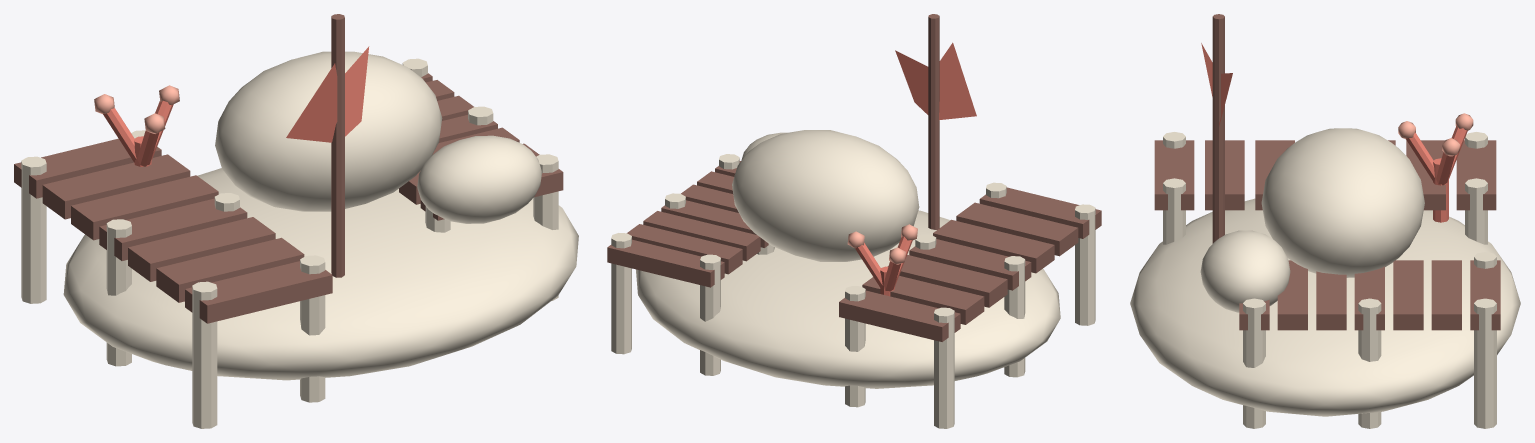
File: port.glb
3 views of the same model, side by side, from view 1: azimuth 30°, elevation 25°; view 2: azimuth 150°, elevation 25°; view 3: azimuth 270°, elevation 25° (orthographic). The views are drawn at different scales.
Parts seen in each view (by area): view 1: Port reef, Nacre shell, Nacre shell.001, Quay plank, Quay plank.002, Quay plank.001, Quay plank.004, Quay plank.005, Harbor banner, Stilt, Stilt.002, Quay plank.003 (+9 smaller); view 2: Port reef, Nacre shell, Quay plank.006, Harbor banner, Quay plank.013, Quay plank.001, Quay plank.002, Harbor banner mast, Quay plank.004, Quay plank.005, Quay plank, Quay plank.003 (+12 smaller); view 3: Port reef, Nacre shell, Nacre shell.001, Stilt.011, Harbor banner mast, Quay plank, Quay plank.012, Quay plank.011, Quay plank.006, Quay plank.001, Stilt.009, Quay plank.009 (+13 smaller).
Boxes of the visible parts, x1,y1,x2,y2 form: Port reef: (63, 168, 578, 380); Nacre shell: (215, 51, 442, 211); Nacre shell.001: (417, 135, 541, 223); Quay plank: (185, 261, 332, 323); Quay plank.002: (128, 217, 275, 281); Quay plank.001: (156, 237, 304, 302); Quay plank.004: (71, 175, 218, 240); Quay plank.005: (42, 154, 190, 219); Harbor banner: (286, 46, 369, 142); Stilt: (192, 281, 217, 428); Stilt.002: (21, 156, 46, 303); Quay plank.003: (99, 198, 247, 260); Port reef: (636, 210, 1060, 388); Nacre shell: (732, 130, 919, 261); Quay plank.006: (839, 290, 960, 341); Harbor banner: (895, 42, 976, 120); Quay plank.013: (607, 239, 724, 287); Quay plank.001: (956, 202, 1078, 256); Quay plank.002: (933, 219, 1054, 273); Harbor banner mast: (928, 14, 939, 229); Quay plank.004: (887, 255, 1007, 307); Quay plank.005: (862, 276, 984, 324); Quay plank: (979, 187, 1101, 238); Quay plank.003: (909, 239, 1031, 290); Port reef: (1130, 198, 1520, 416); Nacre shell: (1261, 128, 1424, 277); Nacre shell.001: (1200, 230, 1290, 312); Stilt.011: (1474, 298, 1496, 428); Harbor banner mast: (1212, 14, 1224, 243); Quay plank: (1154, 140, 1194, 210); Quay plank.012: (1431, 260, 1461, 330); Quay plank.011: (1393, 260, 1423, 330); Quay plank.006: (1456, 140, 1496, 210); Quay plank.001: (1205, 140, 1244, 210); Stilt.009: (1243, 298, 1265, 428); Quay plank.009: (1316, 271, 1346, 330).
Size of the model in its own units: 2.7 by 1.99 by 2.2.
